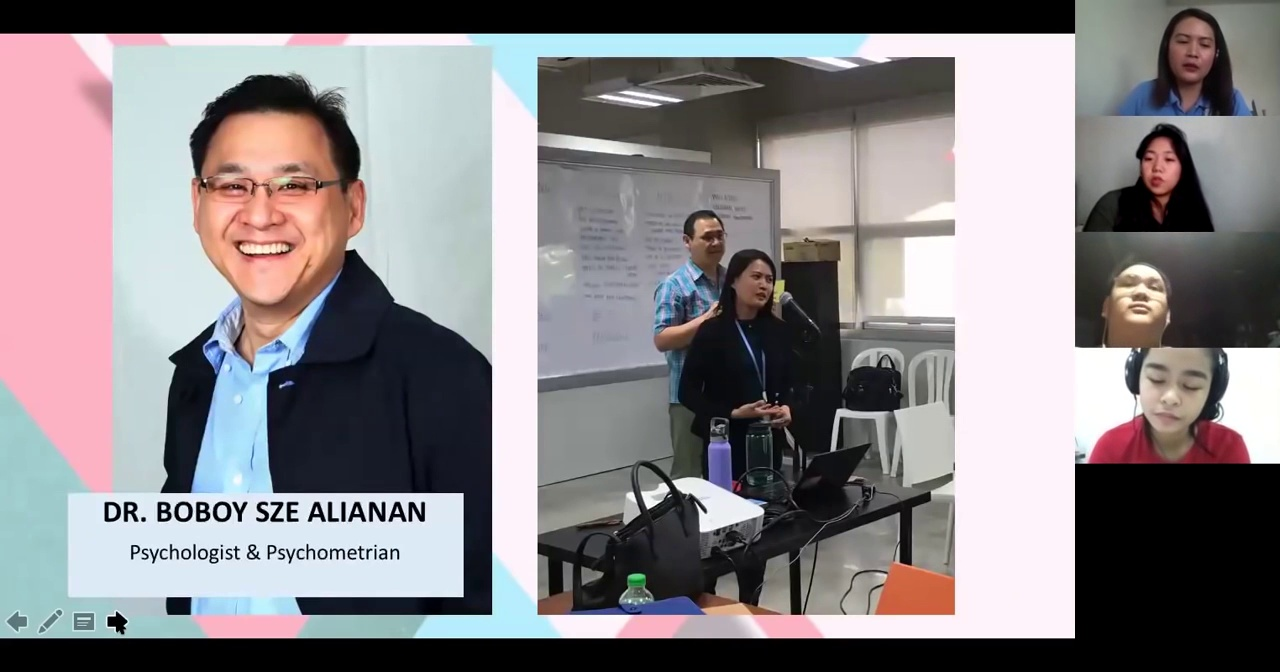Distracted: (1129, 354, 1221, 433), (1097, 269, 1183, 332), (1152, 14, 1224, 88), (729, 250, 781, 309), (677, 210, 731, 263)
Not Distracted: (177, 83, 372, 313), (1134, 128, 1193, 200)
